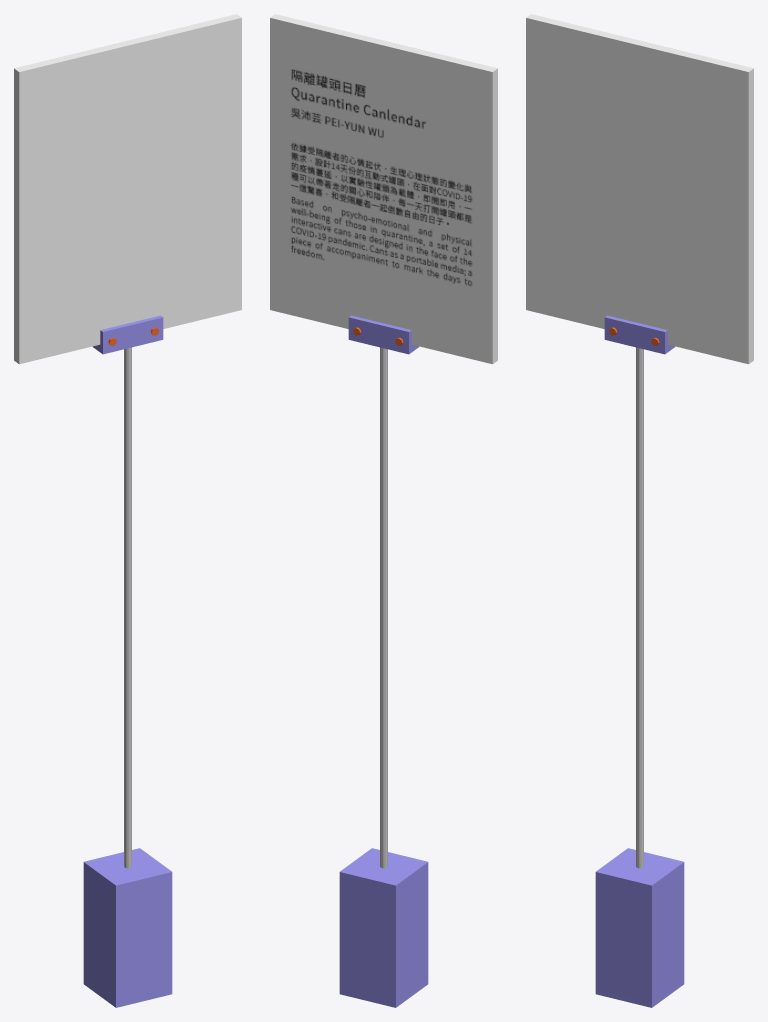
Rendered from worksign_A0507101.fbx.
The picture shows the model from 3 angles, left to right: view 1: azimuth 30°, elevation 25°; view 2: azimuth 150°, elevation 25°; view 3: azimuth 330°, elevation 25°; orthographic projection.
Parts seen in each view (by area): view 1: work_detail_A0507101, work_sign; view 2: work_detail_A0507101, work_sign; view 3: work_detail_A0507101, work_sign.
Part boxes in pixels (box(x1,y1,x2,y2)): work_detail_A0507101: box(14, 14, 241, 364); work_sign: box(83, 315, 172, 1007); work_detail_A0507101: box(270, 14, 497, 364); work_sign: box(339, 315, 428, 1007); work_detail_A0507101: box(526, 14, 753, 364); work_sign: box(595, 315, 684, 1007).
Bounding box in the file's own units: 42.19 × 171 × 10.67.
1 material, 1 textured.
